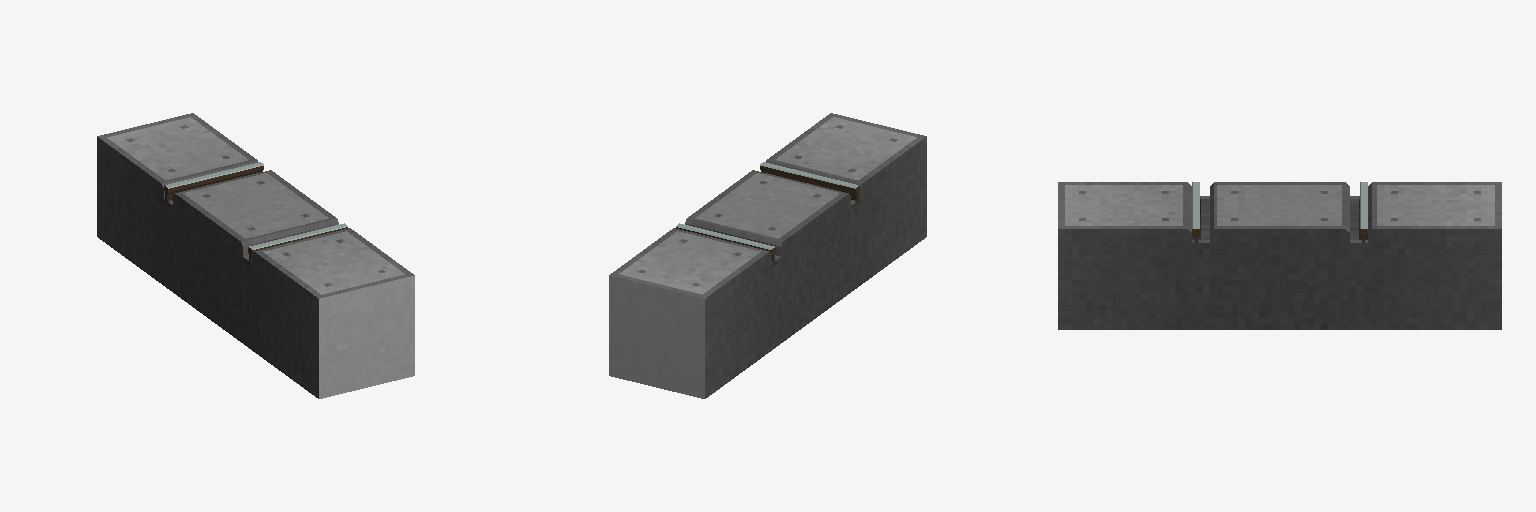
3 renders of one model, left to right at view 1: azimuth 30°, elevation 25°; view 2: azimuth 150°, elevation 25°; view 3: azimuth 270°, elevation 25°, orthographic.
Visible parts, largest first — view 1: RAIL_BASE_Cube.001, RAIL_RIGHT_Cube.003, RAIL_LEFT_Cube.004; view 2: RAIL_BASE_Cube.001, RAIL_LEFT_Cube.004, RAIL_RIGHT_Cube.003; view 3: RAIL_BASE_Cube.001.
Part boxes in pixels (x1,y1,x2,y2): RAIL_BASE_Cube.001: (97, 113, 414, 398); RAIL_RIGHT_Cube.003: (162, 162, 263, 206); RAIL_LEFT_Cube.004: (246, 223, 347, 268); RAIL_BASE_Cube.001: (609, 113, 926, 398); RAIL_LEFT_Cube.004: (760, 162, 861, 206); RAIL_RIGHT_Cube.003: (676, 223, 777, 268); RAIL_BASE_Cube.001: (1058, 182, 1501, 329).
Bounding box in the file's own units: 1 × 1 × 4.
1 materials, 1 textured.